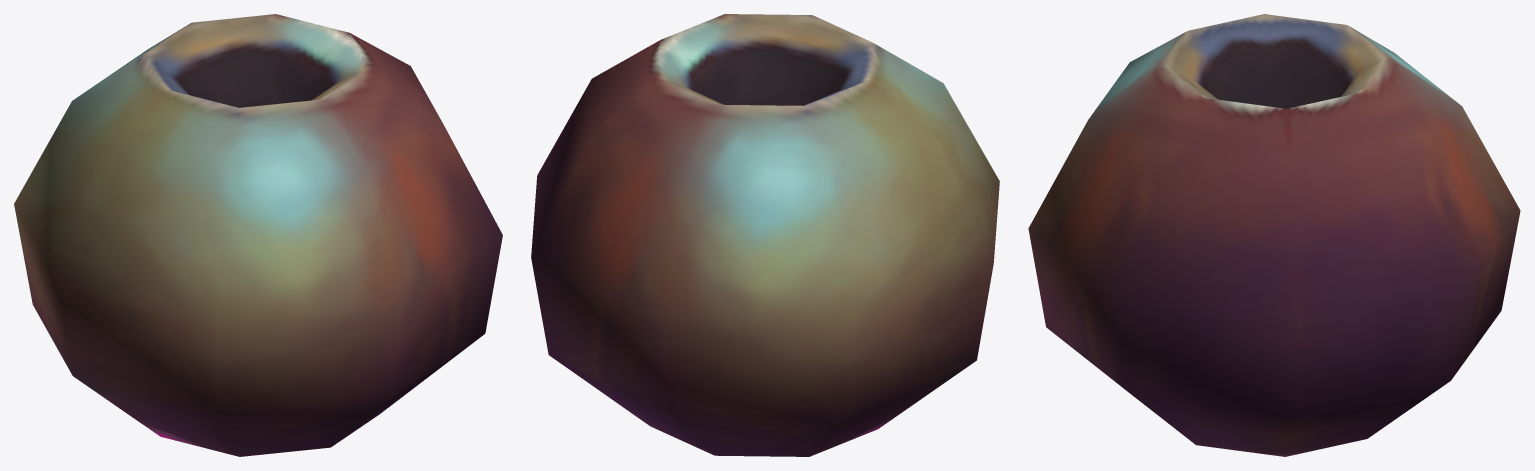
The model's file is Sea_guangzi01.FBX.
3 views of the same model, side by side, from view 1: azimuth 30°, elevation 25°; view 2: azimuth 150°, elevation 25°; view 3: azimuth 270°, elevation 25° (orthographic).
Visible parts, largest first — view 1: guangzi01; view 2: guangzi01; view 3: guangzi01.
Part boxes in pixels (x1,y1,x2,y2): guangzi01: (14, 14, 502, 456); guangzi01: (531, 14, 999, 456); guangzi01: (1028, 14, 1520, 456).
Bounding box in the file's own units: 18.37 × 14.23 × 18.37.
